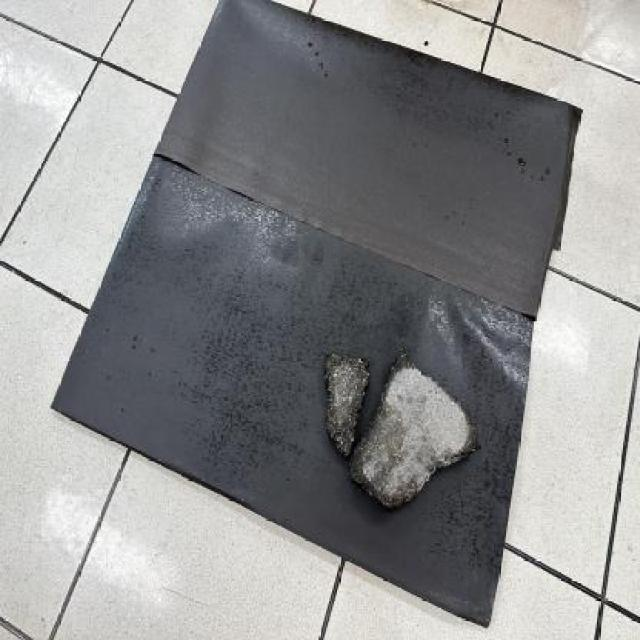Road Debris: (364, 400, 427, 506), (316, 344, 362, 458)
